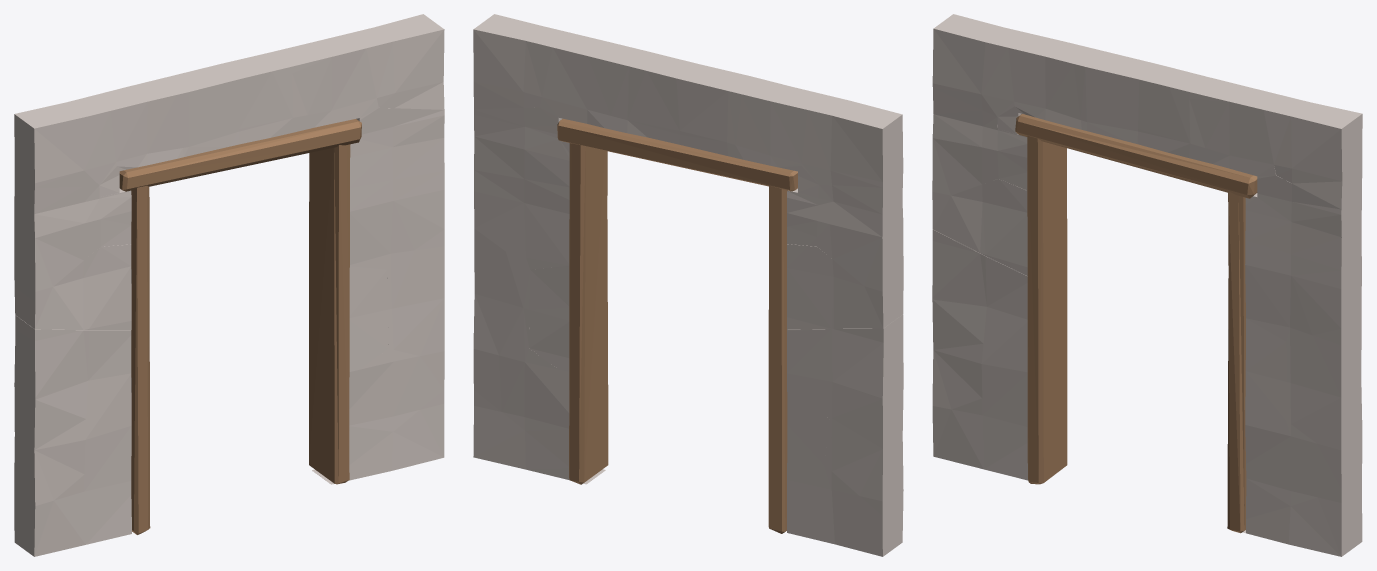
The model's file is PKF_PKX_Wall_Int_Door_v2.fbx.
3 views of the same model, side by side, from view 1: azimuth 30°, elevation 25°; view 2: azimuth 150°, elevation 25°; view 3: azimuth 330°, elevation 25° (orthographic).
Visible parts, largest first — view 1: PKX_Wall_Int_Door_Chunk_20, PKX_Wall_Int_Door_Chunk_07, PKX_Wall_Int_Door_Chunk_13, PKX_Wall_Int_Door_Chunk_10, PKX_Wall_Int_Door_Chunk_08, PKX_Wall_Int_Door_Chunk_03, PKX_Wall_Int_Door_Chunk_09, PKX_Wall_Int_Door_Chunk_01, PKX_Wall_Int_Door_Chunk_02, PKX_Wall_Int_Door_Chunk_14, PKX_Wall_Int_Door_Chunk_18, PKX_Wall_Int_Door_Chunk_19 (+10 smaller); view 2: PKX_Wall_Int_Door_Chunk_20, PKX_Wall_Int_Door_Chunk_07, PKX_Wall_Int_Door_Chunk_13, PKX_Wall_Int_Door_Chunk_10, PKX_Wall_Int_Door_Chunk_08, PKX_Wall_Int_Door_Chunk_03, PKX_Wall_Int_Door_Chunk_02, PKX_Wall_Int_Door_Chunk_14, PKX_Wall_Int_Door_Chunk_01, PKX_Wall_Int_Door_Chunk_09, PKX_Wall_Int_Door_Chunk_18, PKX_Wall_Int_Door_Chunk_15 (+10 smaller); view 3: PKX_Wall_Int_Door_Chunk_19, PKX_Wall_Int_Door_Chunk_08, PKX_Wall_Int_Door_Chunk_06, PKX_Wall_Int_Door_Chunk_14, PKX_Wall_Int_Door_Chunk_12, PKX_Wall_Int_Door_Chunk_07, PKX_Wall_Int_Door_Chunk_02, PKX_Wall_Int_Door_Chunk_13, PKX_Wall_Int_Door_Chunk_18, PKX_Wall_Int_Door_Chunk_15, PKX_Wall_Int_Door_Chunk_09, PKX_Wall_Int_Door_Chunk_20 (+10 smaller).
Boxes of the visible parts, left/top/right/bottom form: PKX_Wall_Int_Door_Chunk_20: left=309, top=144, right=350, bottom=484; PKX_Wall_Int_Door_Chunk_07: left=14, top=315, right=131, bottom=419; PKX_Wall_Int_Door_Chunk_13: left=14, top=96, right=136, bottom=196; PKX_Wall_Int_Door_Chunk_10: left=14, top=173, right=100, bottom=301; PKX_Wall_Int_Door_Chunk_08: left=350, top=171, right=444, bottom=269; PKX_Wall_Int_Door_Chunk_03: left=14, top=384, right=94, bottom=516; PKX_Wall_Int_Door_Chunk_09: left=14, top=244, right=131, bottom=329; PKX_Wall_Int_Door_Chunk_01: left=14, top=466, right=131, bottom=556; PKX_Wall_Int_Door_Chunk_02: left=349, top=348, right=444, bottom=466; PKX_Wall_Int_Door_Chunk_14: left=347, top=14, right=444, bottom=109; PKX_Wall_Int_Door_Chunk_18: left=156, top=56, right=271, bottom=156; PKX_Wall_Int_Door_Chunk_19: left=131, top=185, right=150, bottom=534; PKX_Wall_Int_Door_Chunk_20: left=569, top=143, right=608, bottom=484; PKX_Wall_Int_Door_Chunk_07: left=787, top=314, right=903, bottom=418; PKX_Wall_Int_Door_Chunk_13: left=779, top=95, right=903, bottom=196; PKX_Wall_Int_Door_Chunk_10: left=817, top=173, right=903, bottom=301; PKX_Wall_Int_Door_Chunk_08: left=474, top=170, right=569, bottom=269; PKX_Wall_Int_Door_Chunk_03: left=824, top=384, right=903, bottom=516; PKX_Wall_Int_Door_Chunk_02: left=473, top=348, right=569, bottom=466; PKX_Wall_Int_Door_Chunk_14: left=473, top=14, right=571, bottom=109; PKX_Wall_Int_Door_Chunk_01: left=787, top=465, right=903, bottom=556; PKX_Wall_Int_Door_Chunk_09: left=787, top=244, right=903, bottom=329; PKX_Wall_Int_Door_Chunk_18: left=647, top=56, right=761, bottom=157; PKX_Wall_Int_Door_Chunk_15: left=540, top=33, right=648, bottom=128; PKX_Wall_Int_Door_Chunk_19: left=1027, top=135, right=1067, bottom=484; PKX_Wall_Int_Door_Chunk_08: left=1245, top=241, right=1361, bottom=341; PKX_Wall_Int_Door_Chunk_06: left=1286, top=314, right=1362, bottom=460; PKX_Wall_Int_Door_Chunk_14: left=1263, top=95, right=1362, bottom=209; PKX_Wall_Int_Door_Chunk_12: left=1245, top=175, right=1361, bottom=270; PKX_Wall_Int_Door_Chunk_07: left=932, top=229, right=1027, bottom=345; PKX_Wall_Int_Door_Chunk_02: left=1245, top=421, right=1362, bottom=520; PKX_Wall_Int_Door_Chunk_13: left=932, top=14, right=1034, bottom=134; PKX_Wall_Int_Door_Chunk_18: left=1074, top=49, right=1188, bottom=141; PKX_Wall_Int_Door_Chunk_15: left=1187, top=77, right=1282, bottom=183; PKX_Wall_Int_Door_Chunk_09: left=932, top=179, right=1027, bottom=275; PKX_Wall_Int_Door_Chunk_20: left=1227, top=191, right=1246, bottom=533.
Bounding box in the file's own units: 200 × 200 × 25.67.
